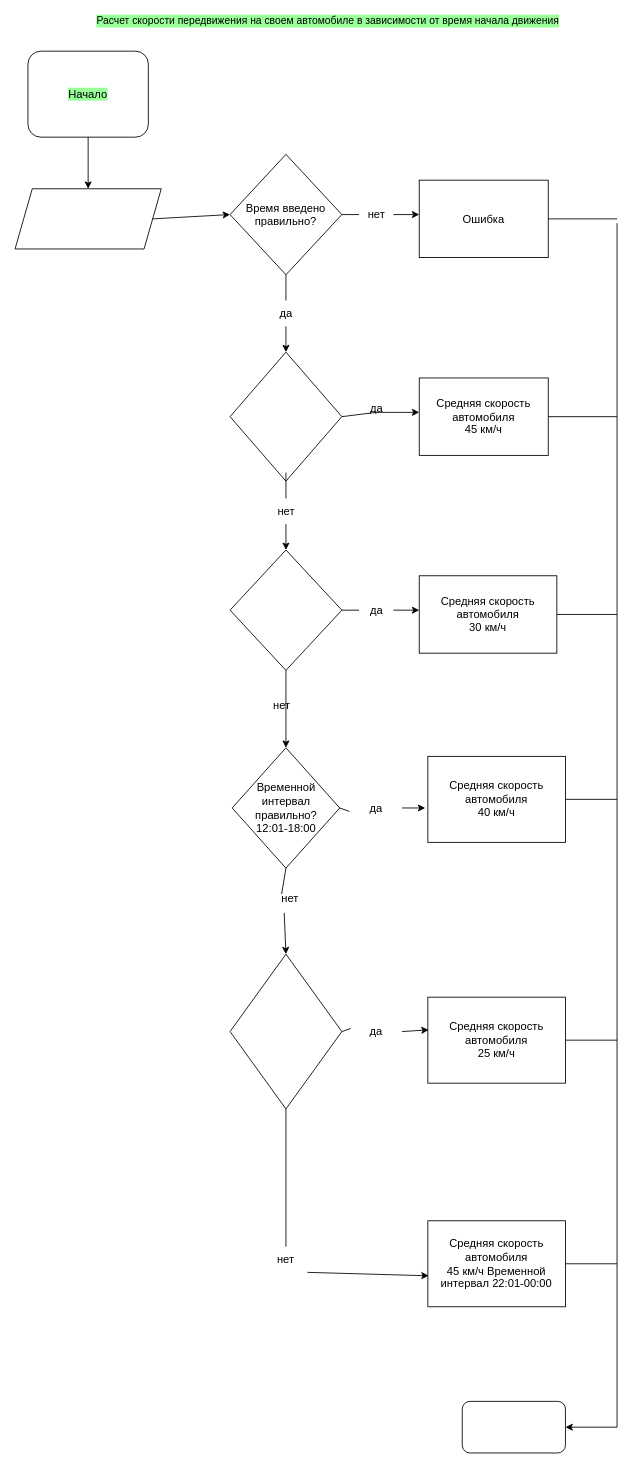
Image size: 639x1468. Some labels were removed from this diagram. The shapes that lost their labels are listed below. From the top down, each one's box as (x1, y1, x2, y2) in pixels, then its label:
(14, 188, 161, 249): Ввод времени начала движения
(229, 351, 342, 481): Временной интервал правильно? 00:01-08:00
(229, 549, 342, 670): Временной интервал правильно? 08:01-12:00
(229, 953, 342, 1109): Временной интервал правильно? 18:01-22:00
(461, 1401, 565, 1453): Конец
